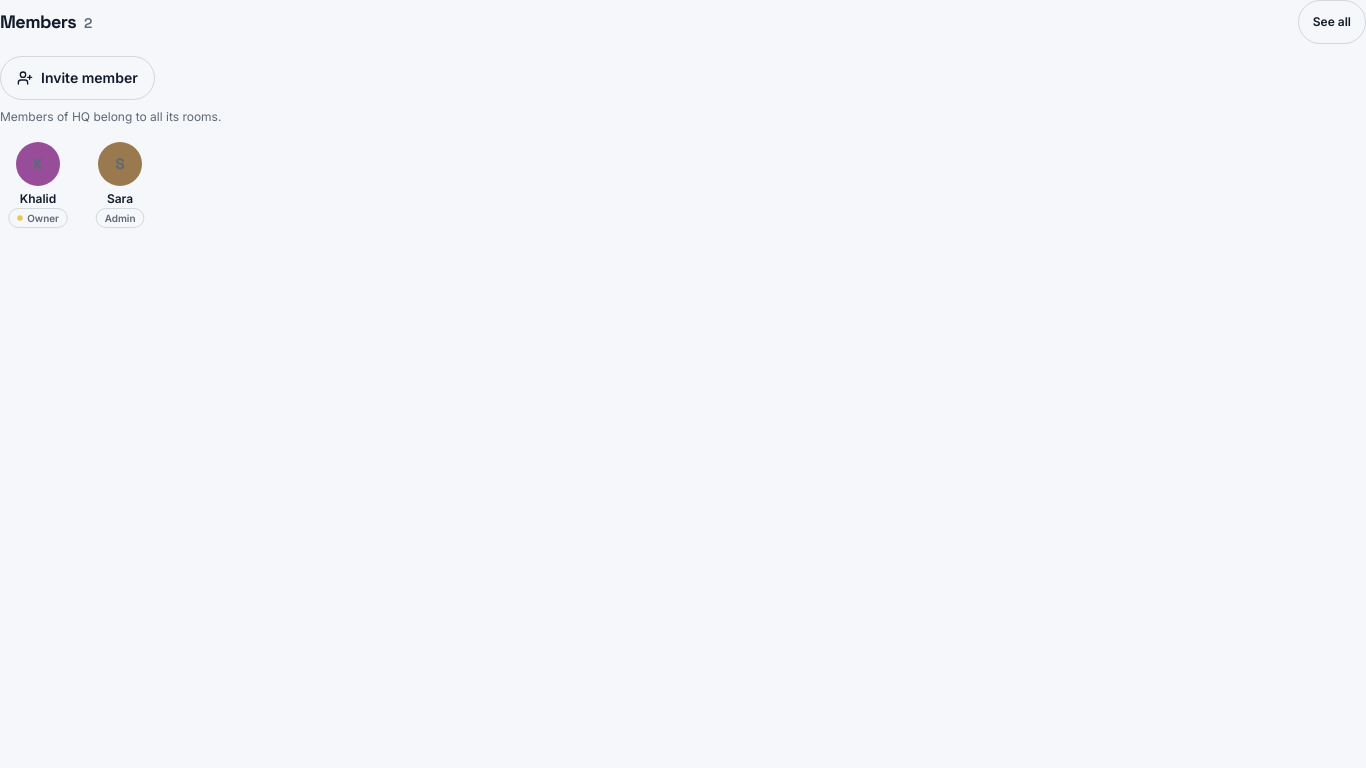
Test: shows the owner's card to someone else as Owns the universe, with Full profile only
Click the button "K Khalid Owner" at coordinates (38, 186), box [0,138,76,233]
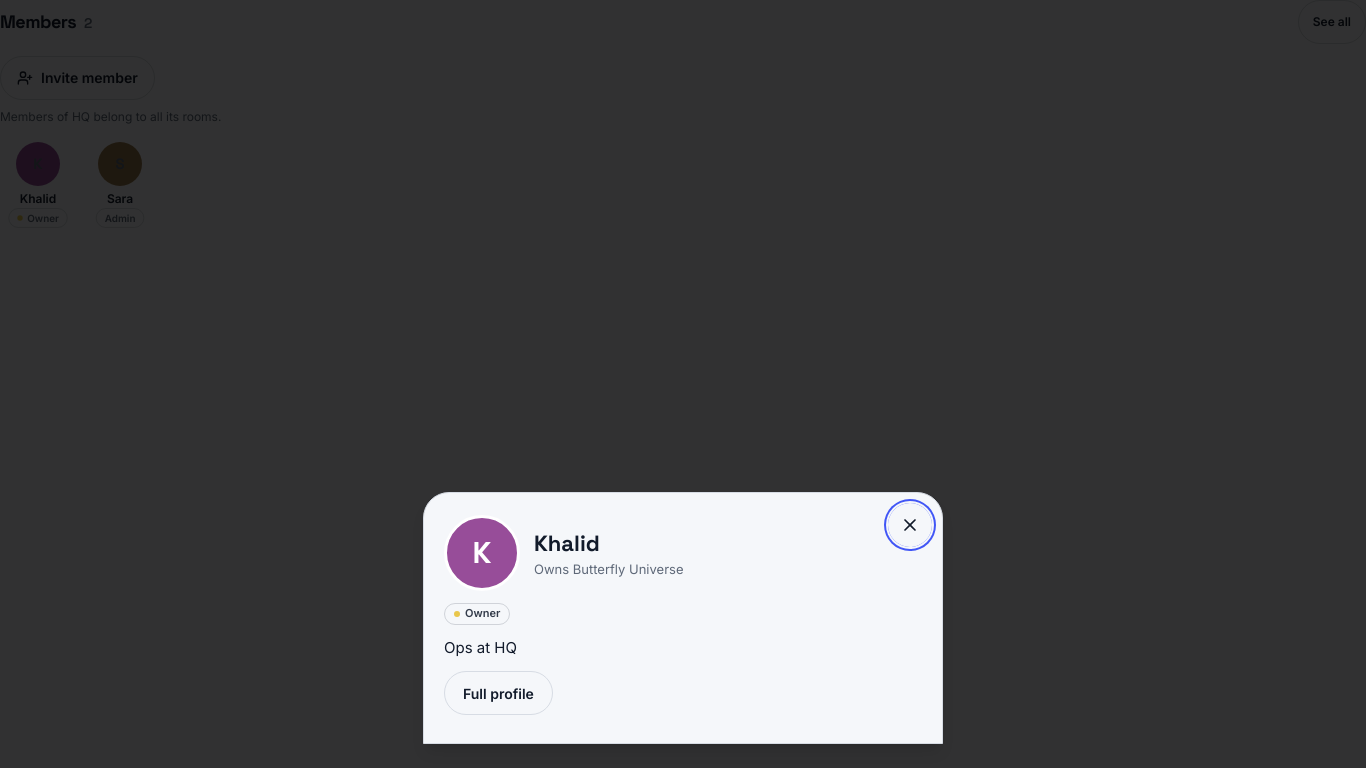
Result: the text "Owns Butterfly Universe" is shown at [534,560,684,579]
Result: the text "Owner" is shown at [444,602,510,624]
